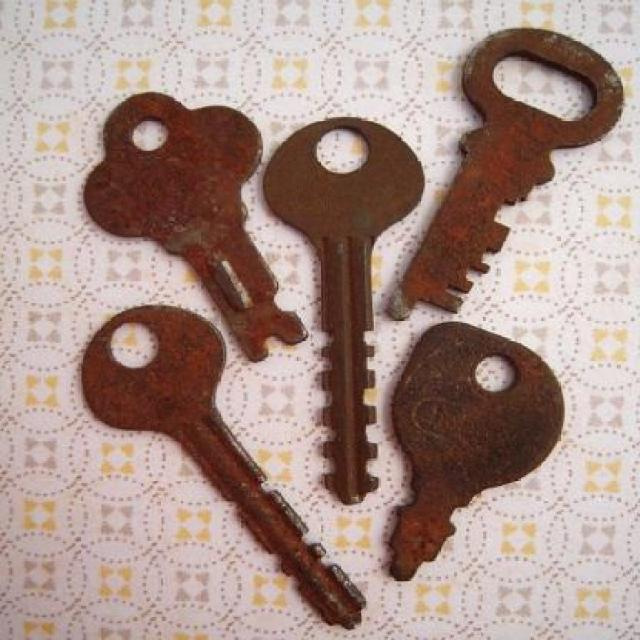corrosion: (81, 21, 624, 634)
